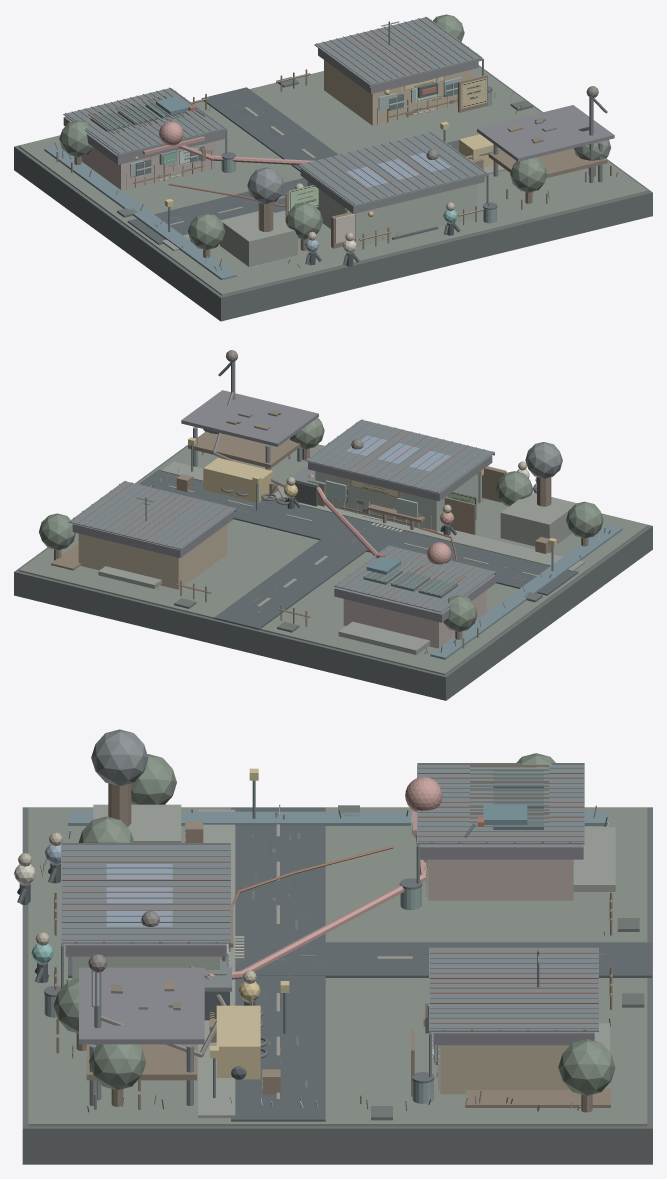
Rendered from yudae_e_clinic_open_detailed.glb.
The picture shows the model from 3 angles, top to bottom: view 1: azimuth 30°, elevation 25°; view 2: azimuth 150°, elevation 25°; view 3: azimuth 270°, elevation 25°; orthographic projection. The views are drawn at different scales.
Parts seen in each view (by area): view 1: world; view 2: world; view 3: world.
Boxes of the visible parts, x1,y1,x2,y2 form: world: [14, 14, 652, 321]; world: [14, 350, 652, 700]; world: [14, 729, 652, 1164].
Bounding box in the file's own units: 3.45 × 0.918 × 2.9.
8 materials, 8 textured.
